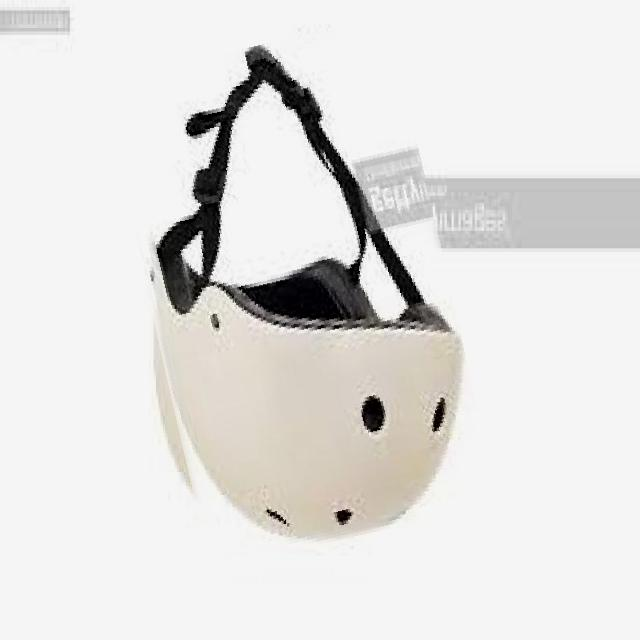helmet: (125, 29, 474, 557)
